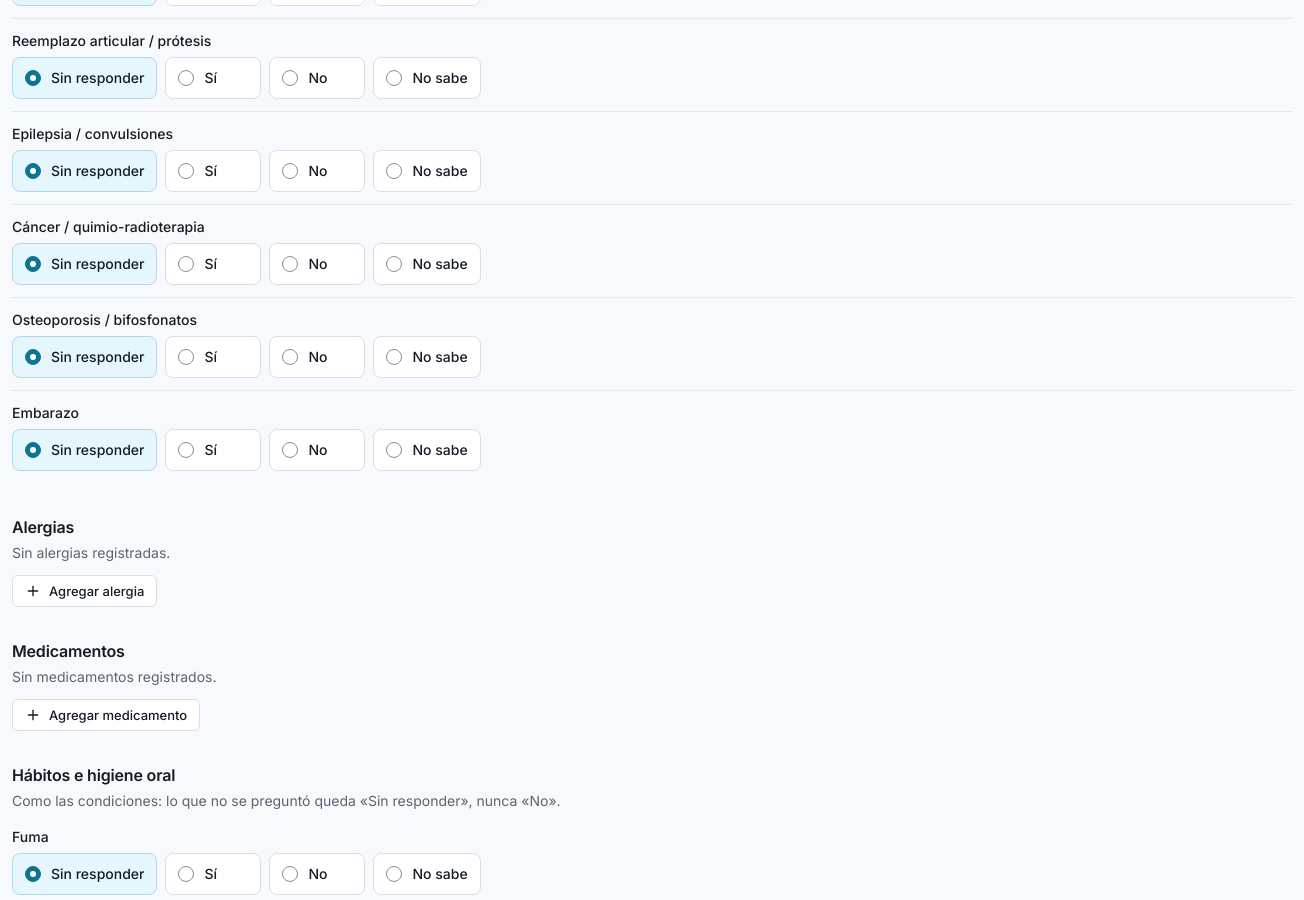
it: embarazo «No» y «No sabe» se guardan tal cual, sin semanas; ya no hay pista de que el «No» se pierde
The image size is (1304, 900).
(page scrolled)
Click the radio button labelled "Sí" below "Embarazo". click: (186,450)
box: top-left (178, 442), bottom-right (194, 458)
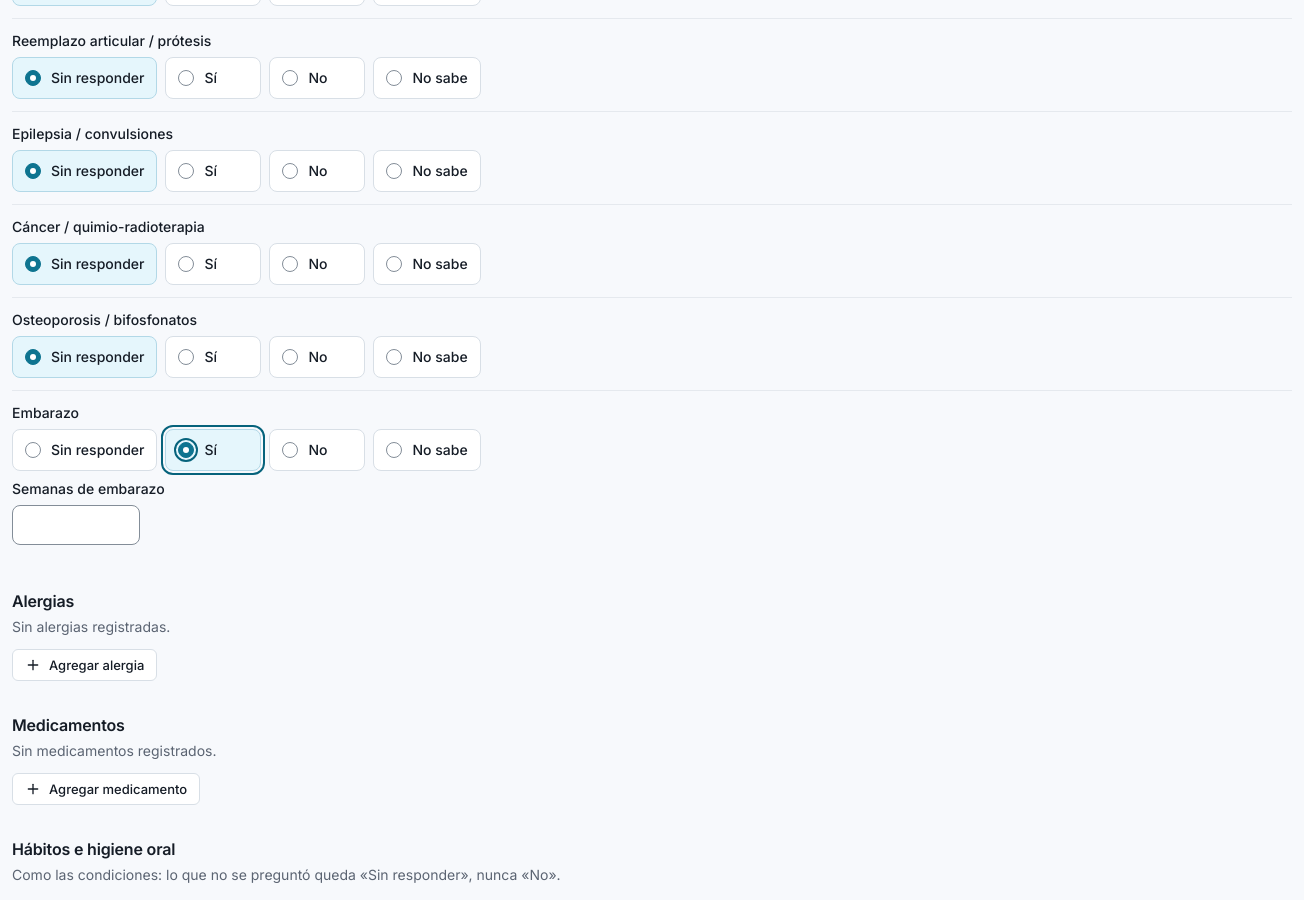
Type "12" into the number field labelled "Semanas de embarazo". click: (76,525)
box: top-left (12, 505), bottom-right (140, 545)
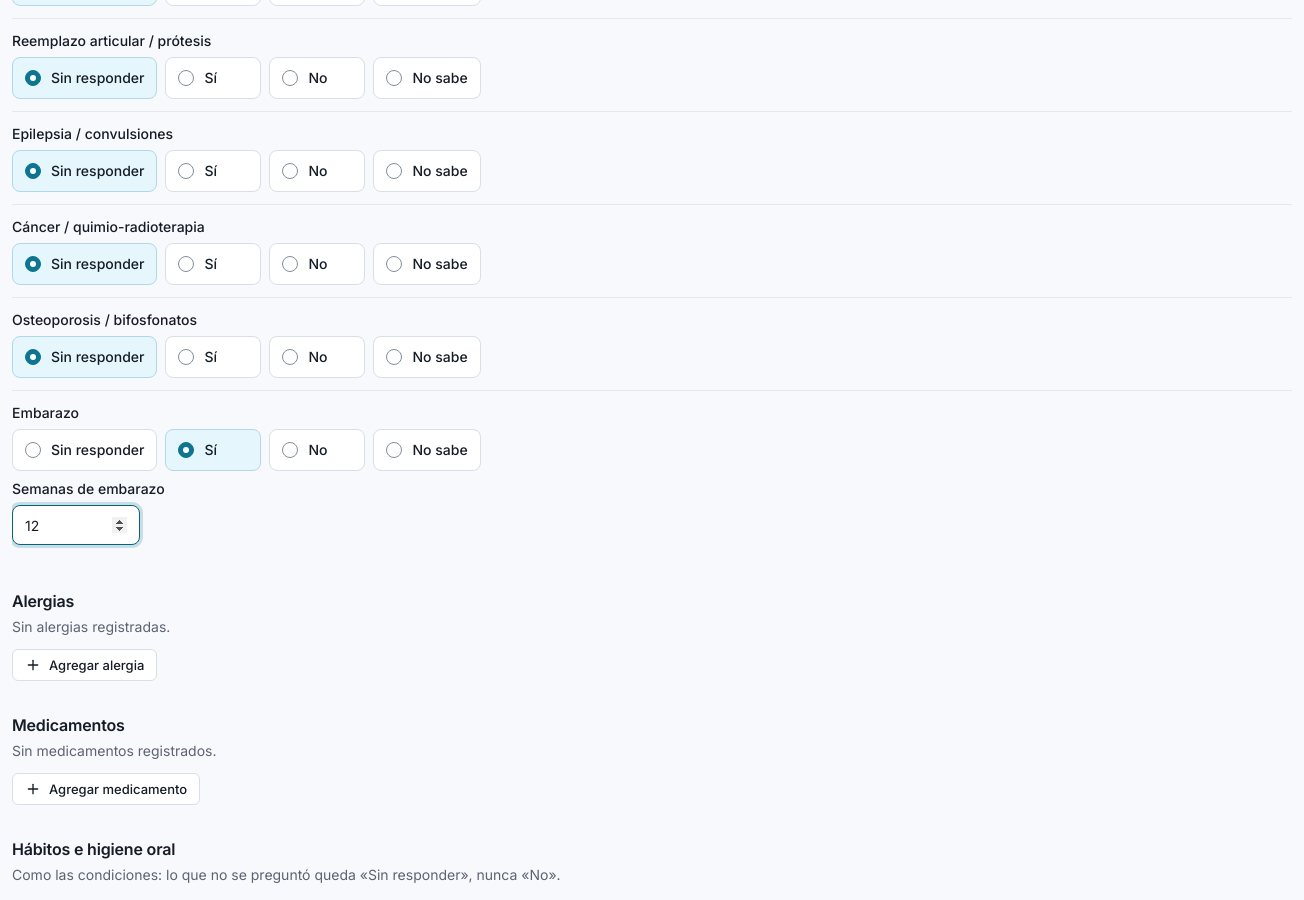
Click the 5th radio button labelled "No". click: (290,450)
box: top-left (282, 442), bottom-right (298, 458)
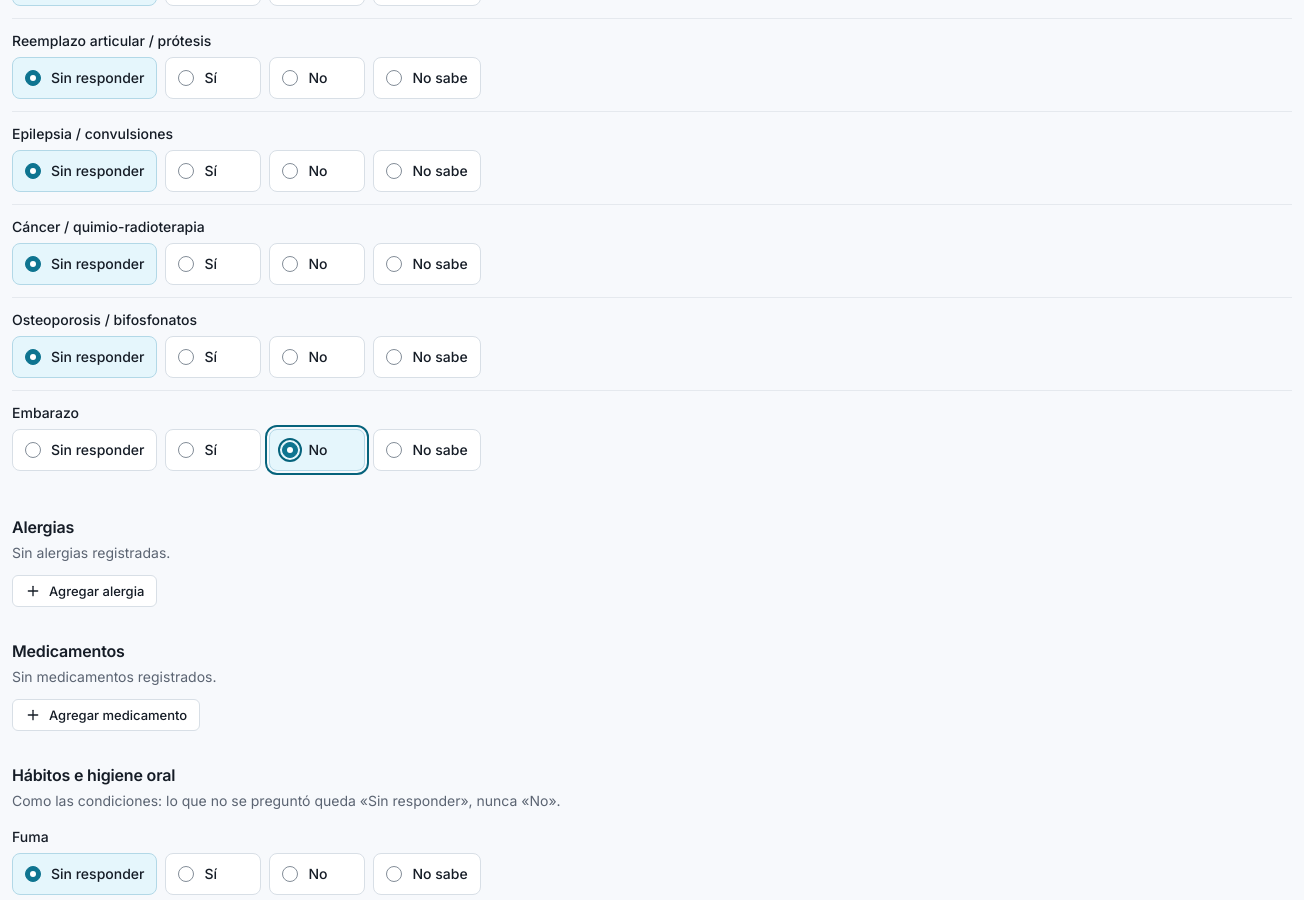
Expected: the label labelled "Semanas de embarazo" is gone
Click the 5th radio button labelled "No sabe". click: (394,450)
box: top-left (386, 442), bottom-right (402, 458)
(page scrolled)
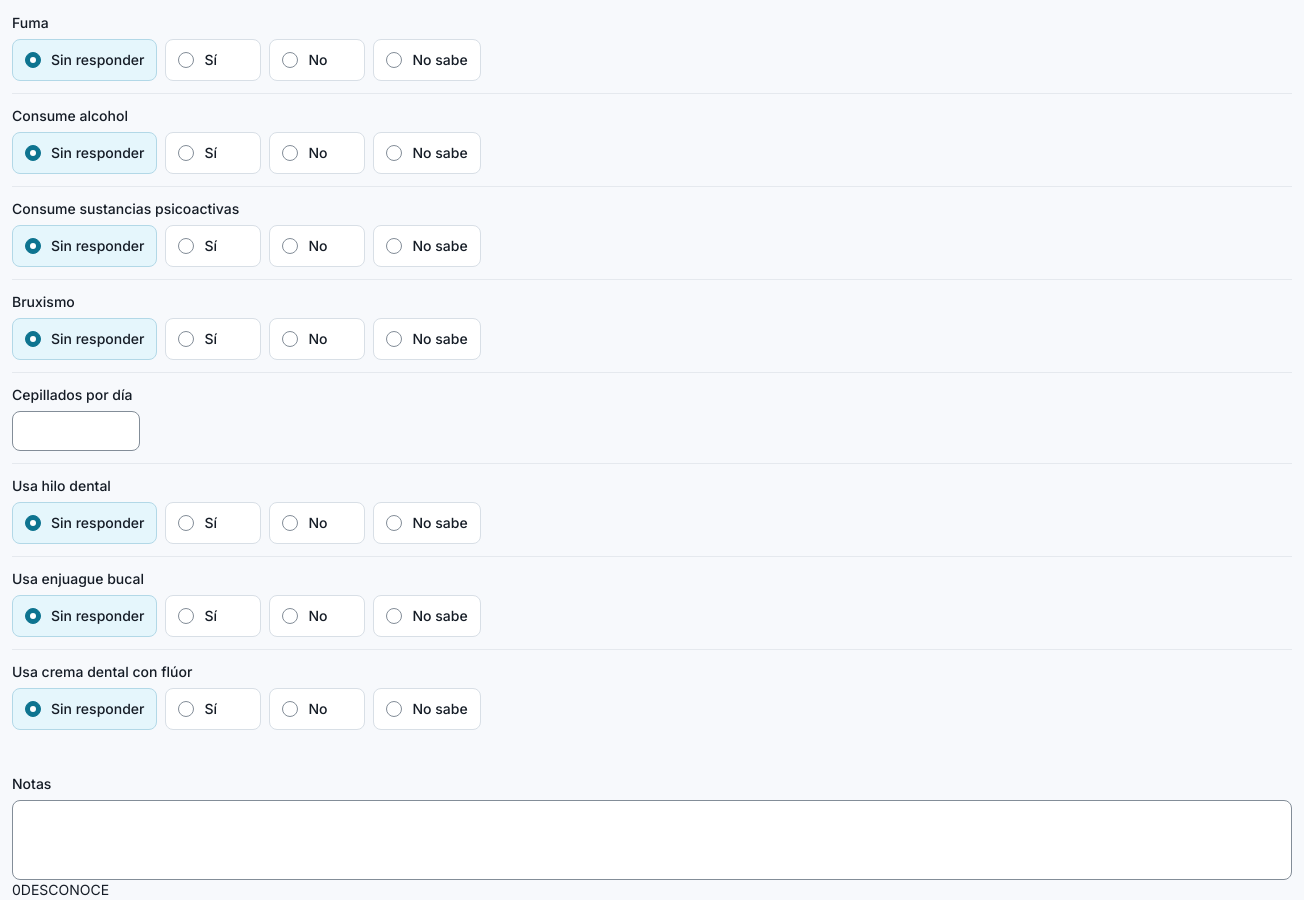
Expected: the text with test id "embarazo" reads "DESCONOCE", top-left (21, 881), bottom-right (109, 898)
